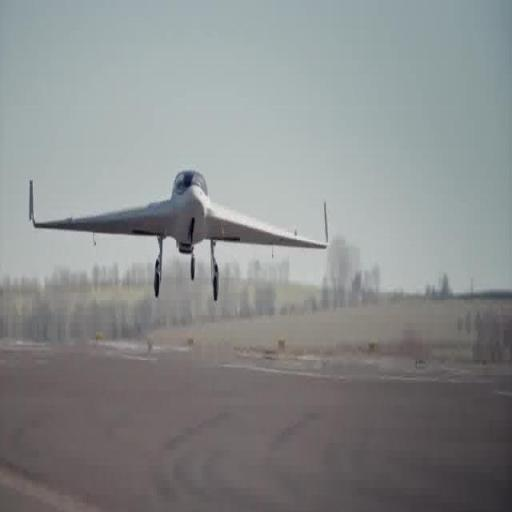uav: (24, 154, 335, 304)
